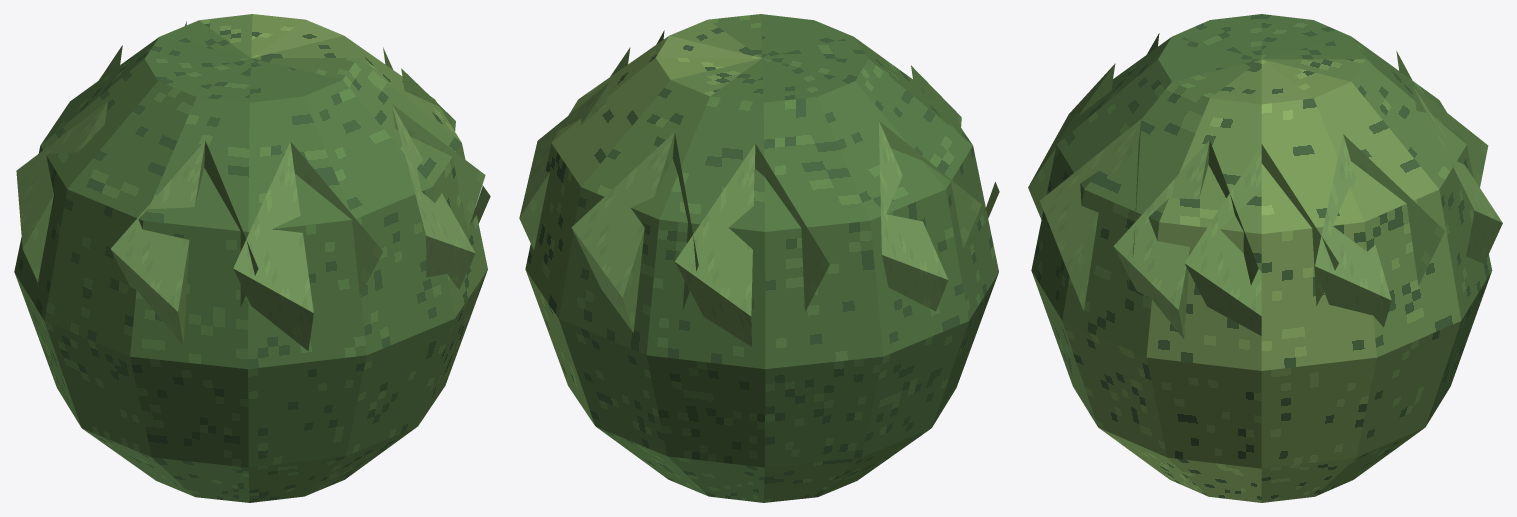
Rendered from brussels_sprout.glb.
3 renders of one model, left to right at view 1: azimuth 30°, elevation 25°; view 2: azimuth 150°, elevation 25°; view 3: azimuth 270°, elevation 25°, orthographic.
Parts seen in each view (by area): view 1: block_compact round green sprout, block_overlapping sprout leaf (×9); view 2: block_compact round green sprout, block_overlapping sprout leaf (×9); view 3: block_compact round green sprout, block_overlapping sprout leaf (×12).
Part boxes in pixels (box(x1,y1,x2,y2)): block_compact round green sprout: box(14, 14, 487, 502); block_overlapping sprout leaf (×9): box(16, 68, 485, 350); block_compact round green sprout: box(525, 14, 998, 502); block_overlapping sprout leaf (×9): box(519, 65, 981, 346); block_compact round green sprout: box(1031, 14, 1492, 502); block_overlapping sprout leaf (×12): box(1028, 64, 1502, 338).
Bounding box in the file's own units: 0.036 × 0.0329 × 0.0356.
1 material, 1 textured.
